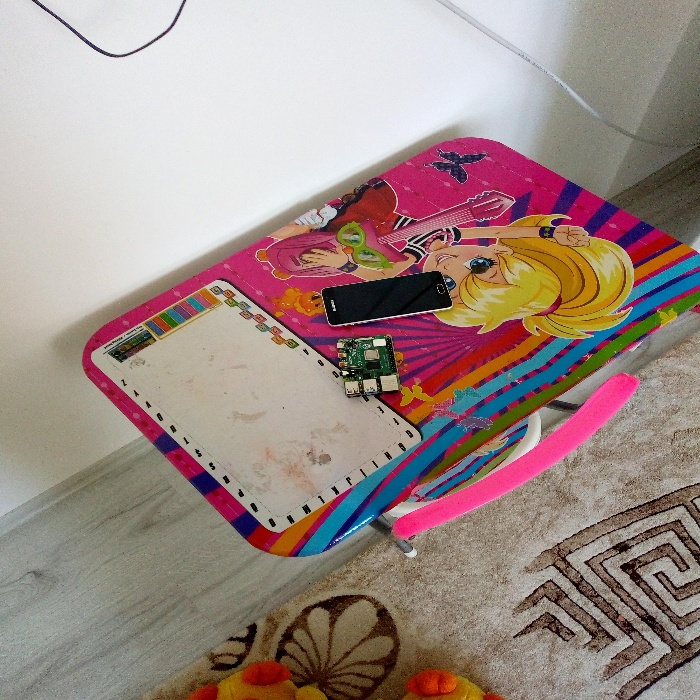raspberry: (308, 328, 409, 411)
